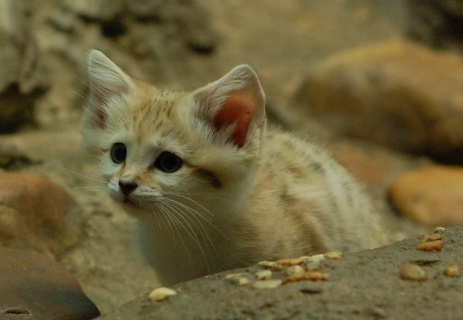Cat: (61, 46, 407, 284)
